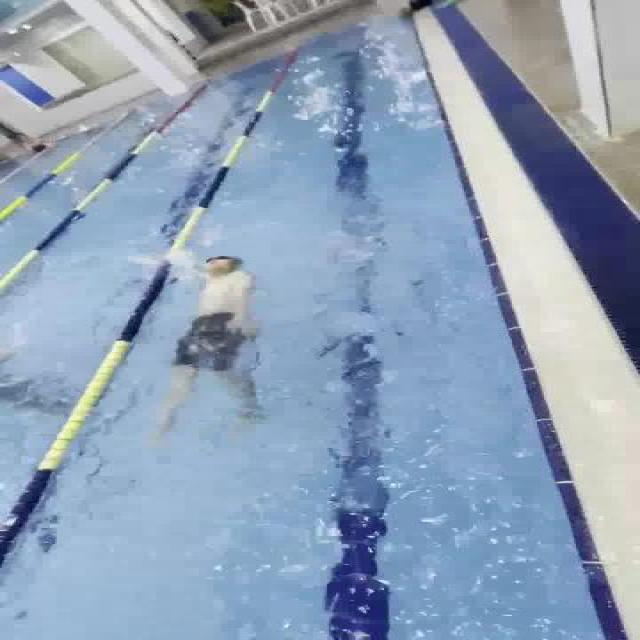Swimming: (158, 253, 260, 437)
